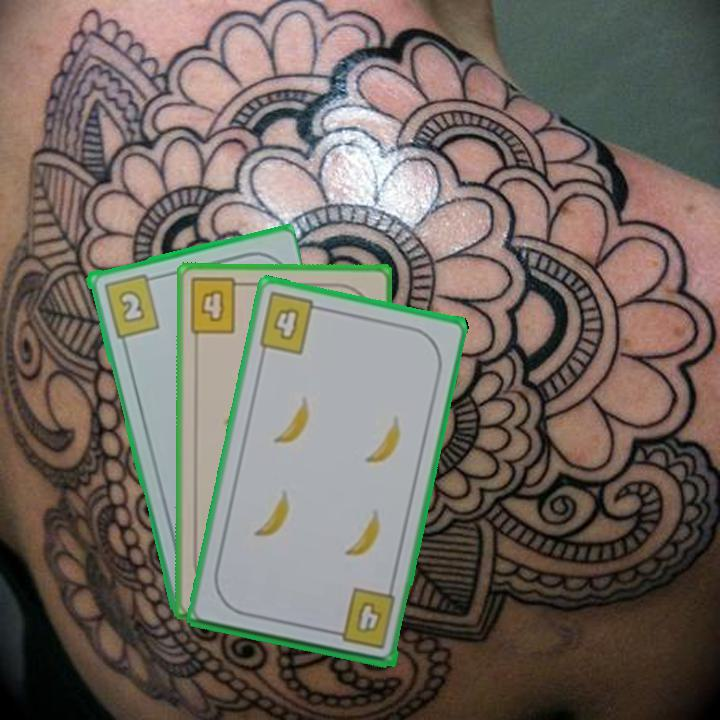2b: (99, 270, 162, 340)
4b: (255, 289, 327, 358), (326, 584, 398, 652), (186, 275, 250, 336)
